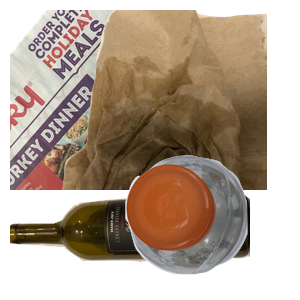glass: (10, 189, 250, 300)
paper: (10, 10, 247, 190)
plastic: (123, 152, 300, 300)
trash: (60, 10, 300, 190)
